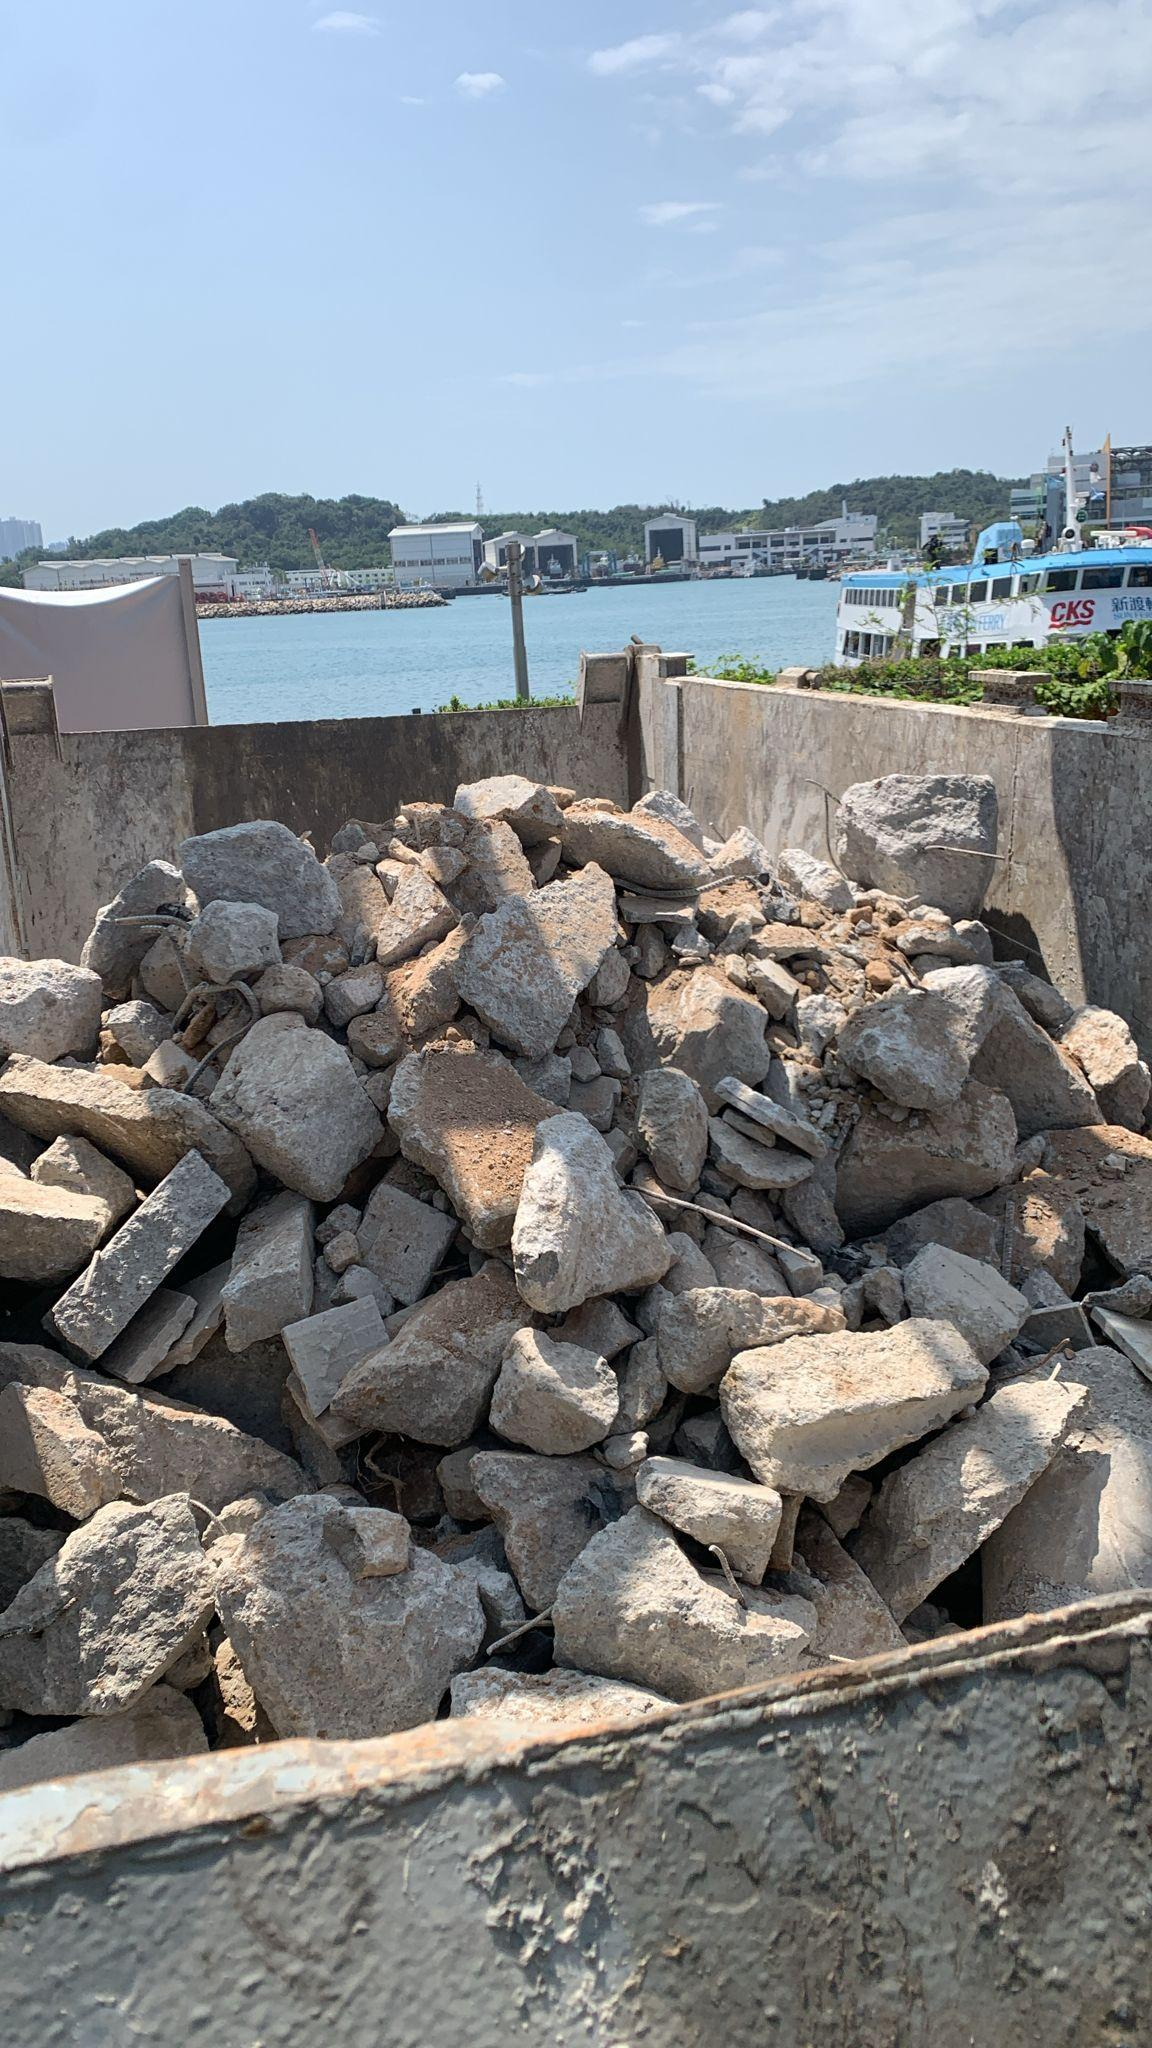dry: (30, 810, 1151, 1689)
